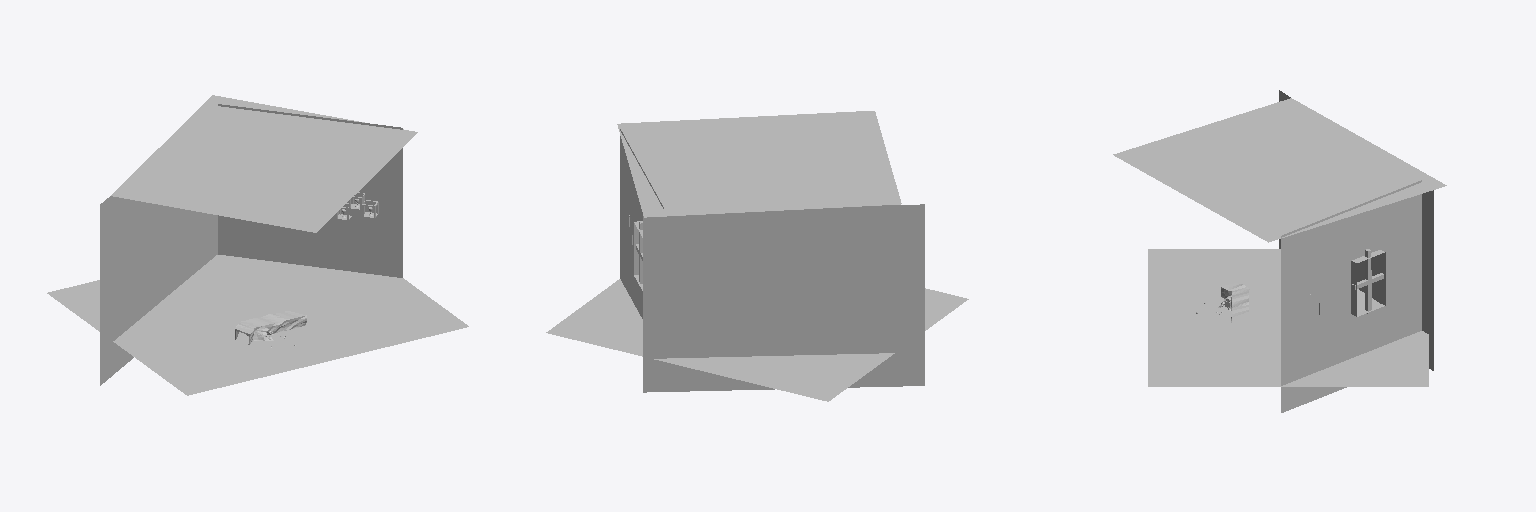
The model's file is SceneInHouse.obj.
3 renders of one model, left to right at view 1: azimuth 30°, elevation 25°; view 2: azimuth 150°, elevation 25°; view 3: azimuth 270°, elevation 25°, orthographic.
Parts seen in each view (by area): view 1: pPlane3, pPlane8, pPlane6, pPlane7, polySurface4; view 2: pPlane6, pPlane8, pPlane3, pPlane7; view 3: pPlane8, pPlane3, pPlane7, pPlane6, polySurface4.
Boxes of the visible parts, x1=… form: pPlane3: x1=47, y1=255, x2=468, y2=395; pPlane8: x1=111, y1=95, x2=417, y2=232; pPlane6: x1=100, y1=196, x2=217, y2=385; pPlane7: x1=218, y1=104, x2=402, y2=277; polySurface4: x1=235, y1=311, x2=306, y2=344; pPlane6: x1=643, y1=204, x2=924, y2=392; pPlane8: x1=617, y1=111, x2=901, y2=217; pPlane3: x1=546, y1=279, x2=968, y2=401; pPlane7: x1=620, y1=129, x2=663, y2=318; pPlane8: x1=1113, y1=98, x2=1446, y2=242; pPlane3: x1=1148, y1=249, x2=1428, y2=386; pPlane7: x1=1281, y1=180, x2=1421, y2=412; pPlane6: x1=1279, y1=90, x2=1433, y2=370; polySurface4: x1=1220, y1=283, x2=1249, y2=322.
Size of the model in its own units: 102 by 57.22 by 94.41.